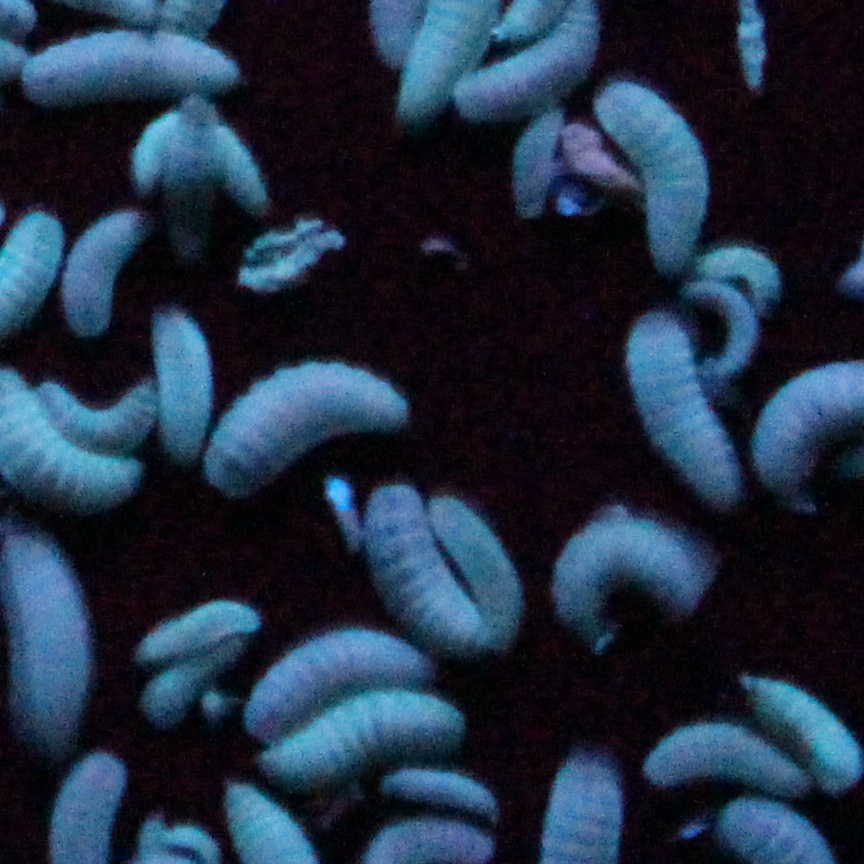larve: (205, 366, 405, 492), (623, 321, 733, 508), (597, 76, 698, 262), (244, 630, 426, 731), (557, 512, 700, 640), (362, 490, 474, 651), (262, 695, 461, 774), (20, 33, 241, 94), (741, 672, 861, 782), (430, 492, 516, 644), (133, 107, 267, 192), (638, 728, 803, 792), (64, 207, 146, 333), (138, 635, 243, 726), (151, 313, 212, 466), (35, 385, 164, 449), (684, 271, 756, 376), (141, 605, 257, 659), (694, 244, 780, 307), (387, 766, 502, 812), (513, 115, 557, 213)
